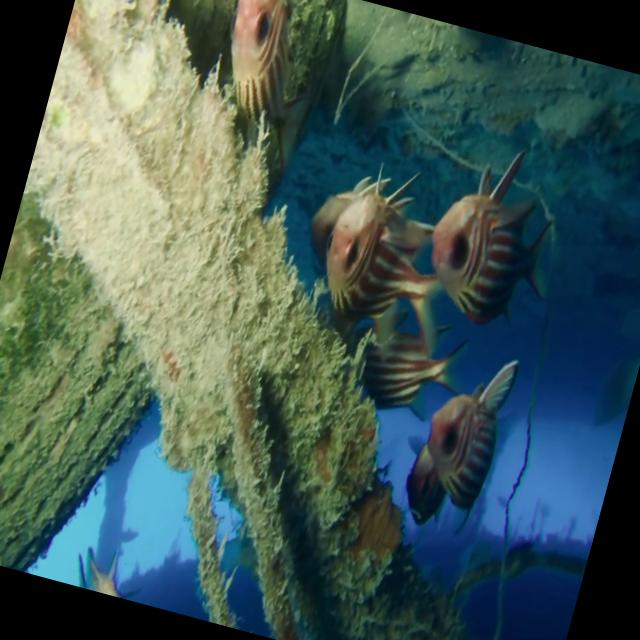Asker Baligi: (407, 130, 583, 353), (300, 147, 456, 350), (390, 338, 522, 544)
